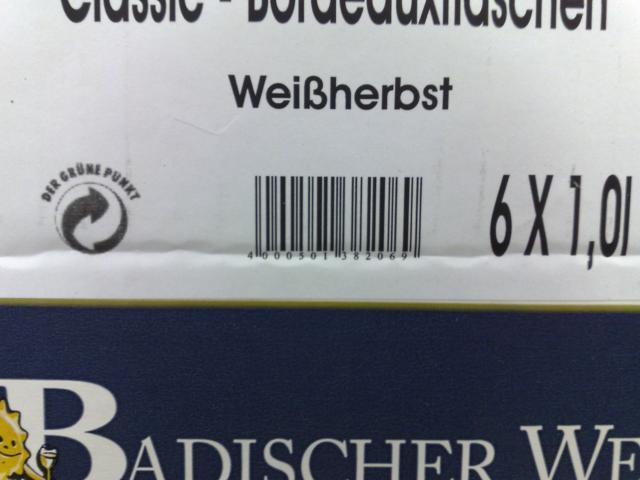Barkod: (252, 174, 421, 250)
